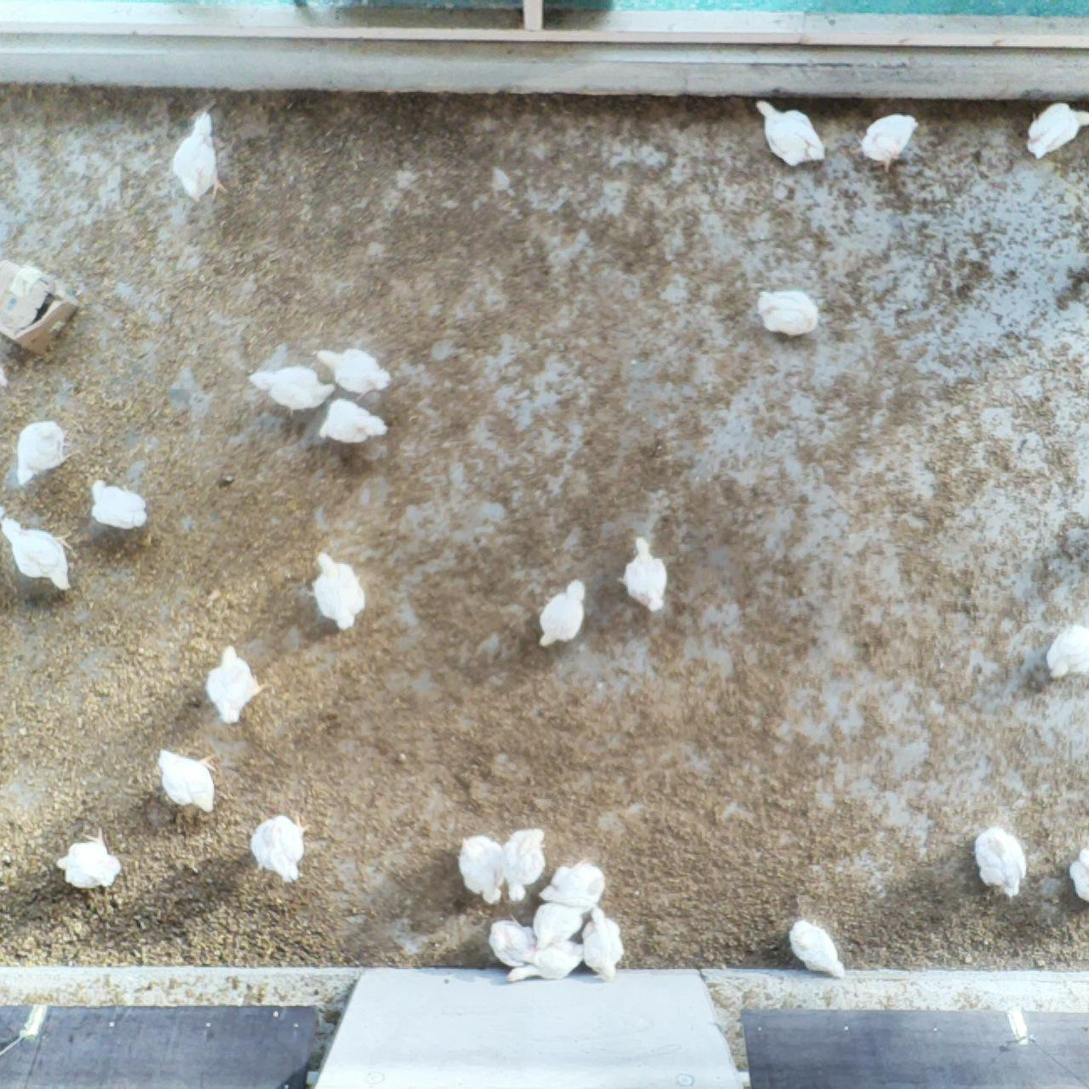chicken: (168, 106, 232, 212), (750, 93, 832, 172), (0, 514, 76, 596), (242, 360, 340, 419), (201, 642, 267, 729), (307, 546, 370, 637), (152, 743, 224, 820), (52, 821, 126, 895), (528, 575, 592, 657), (613, 531, 675, 615), (9, 418, 79, 492), (849, 110, 927, 176), (247, 810, 314, 886), (498, 932, 586, 988), (781, 914, 850, 985), (314, 344, 392, 406), (313, 392, 392, 450), (535, 857, 609, 918), (456, 831, 510, 913), (972, 823, 1028, 901), (1025, 97, 1089, 162), (578, 902, 628, 983), (499, 825, 550, 904), (86, 475, 153, 534), (756, 285, 822, 341), (486, 910, 540, 973), (1043, 617, 1089, 684), (529, 900, 588, 950), (1063, 840, 1089, 908)
